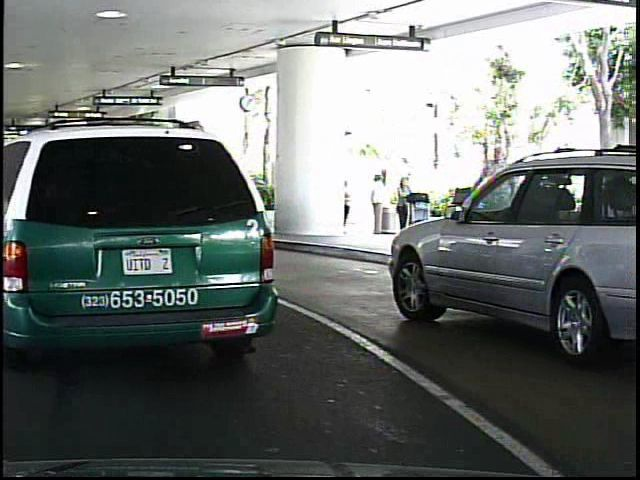person: (470, 138, 516, 275), (388, 169, 418, 239)
